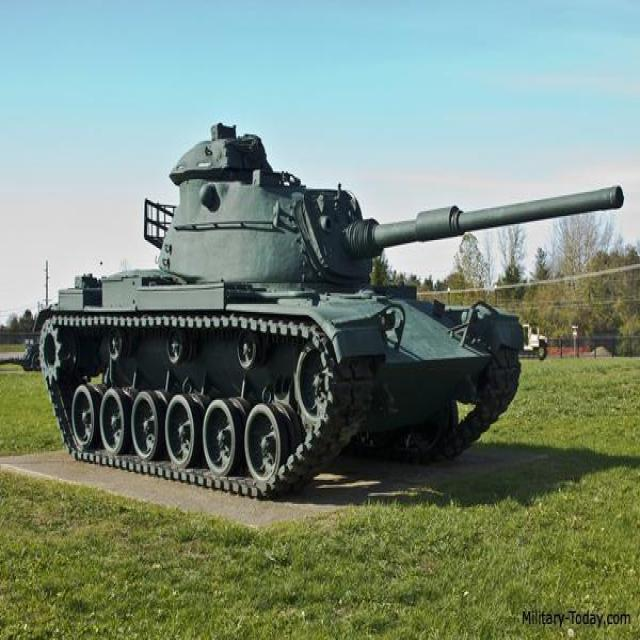MIL_MBT: (38, 118, 625, 510)
